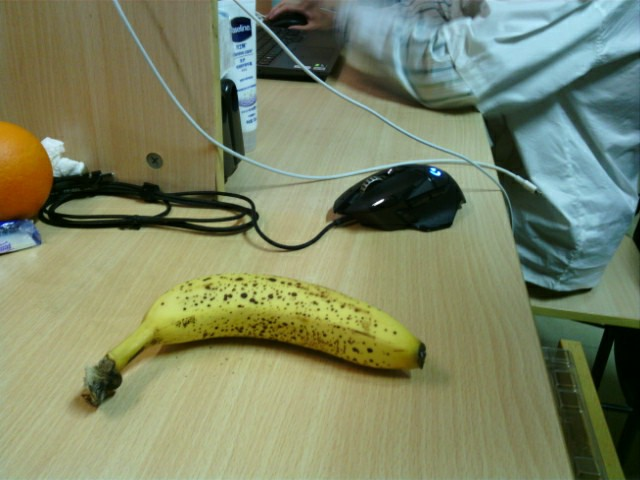normal_banana: (83, 274, 427, 406)
normal_orange: (1, 118, 54, 220)
